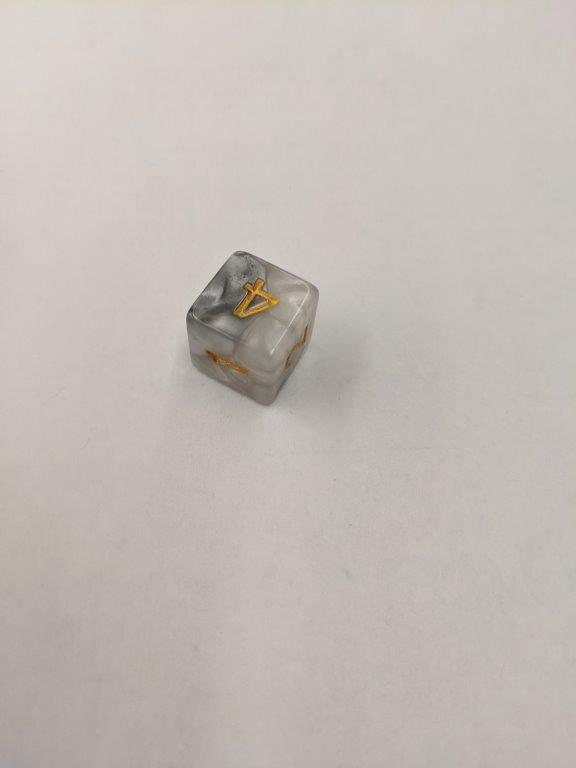d6-4: (185, 248, 319, 405)
